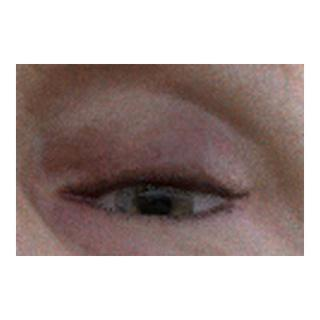pupil: (139, 189, 170, 220)
